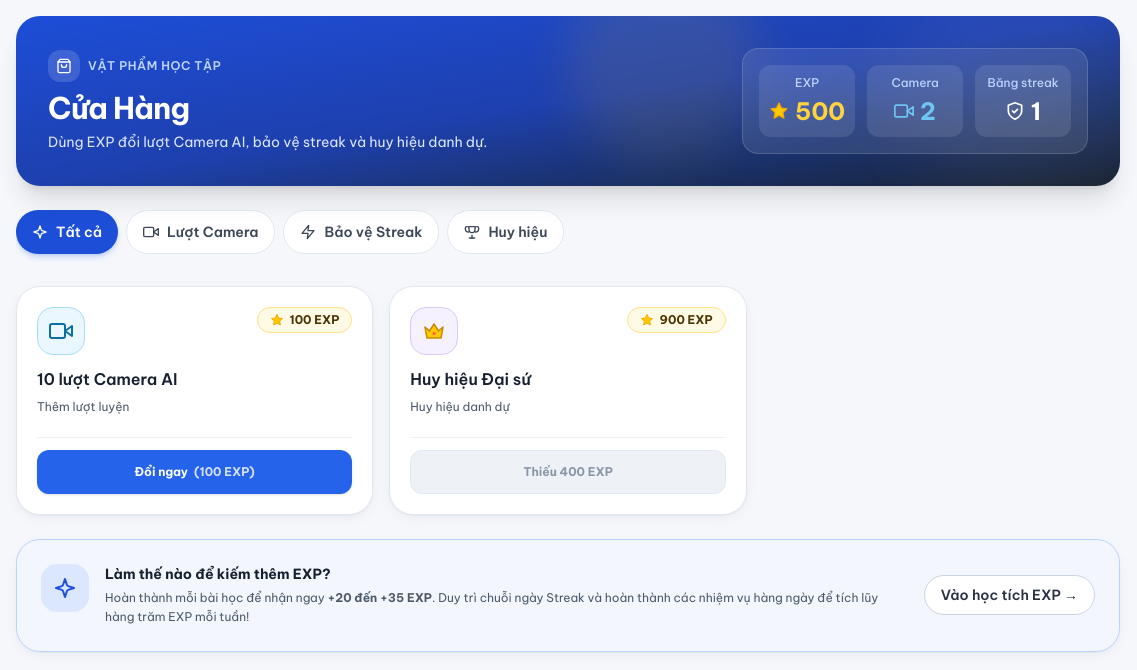
Test: ShopPage › filters catalog and shows insufficient EXP as an explicit disabled state
The width and height of the screenshot is (1137, 670).
Expected: the heading "10 lượt Camera AI" is shown, [37, 369, 178, 389]
Click the button "Huy hiệu".
click(506, 232)  # box [447, 210, 564, 254]
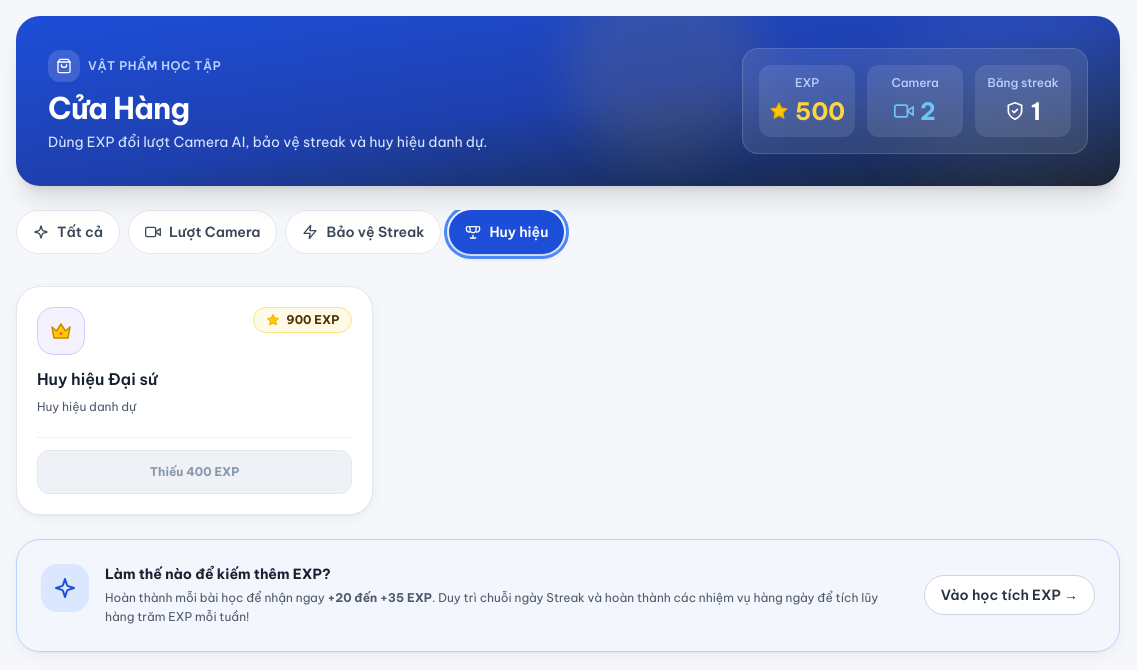
Expected: the button "Thiếu 400 EXP" is disabled, [37, 450, 352, 494]
Now the heading "10 lượt Camera AI" is gone
